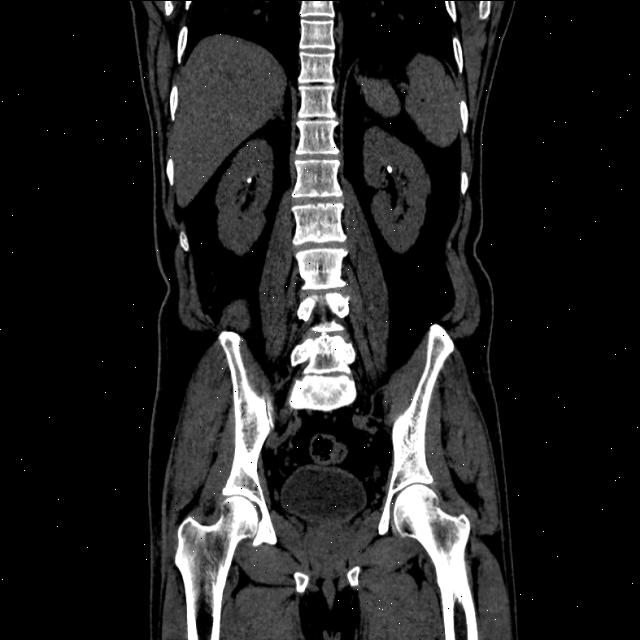kidneystone: (386, 164, 392, 173), (245, 176, 252, 183)
